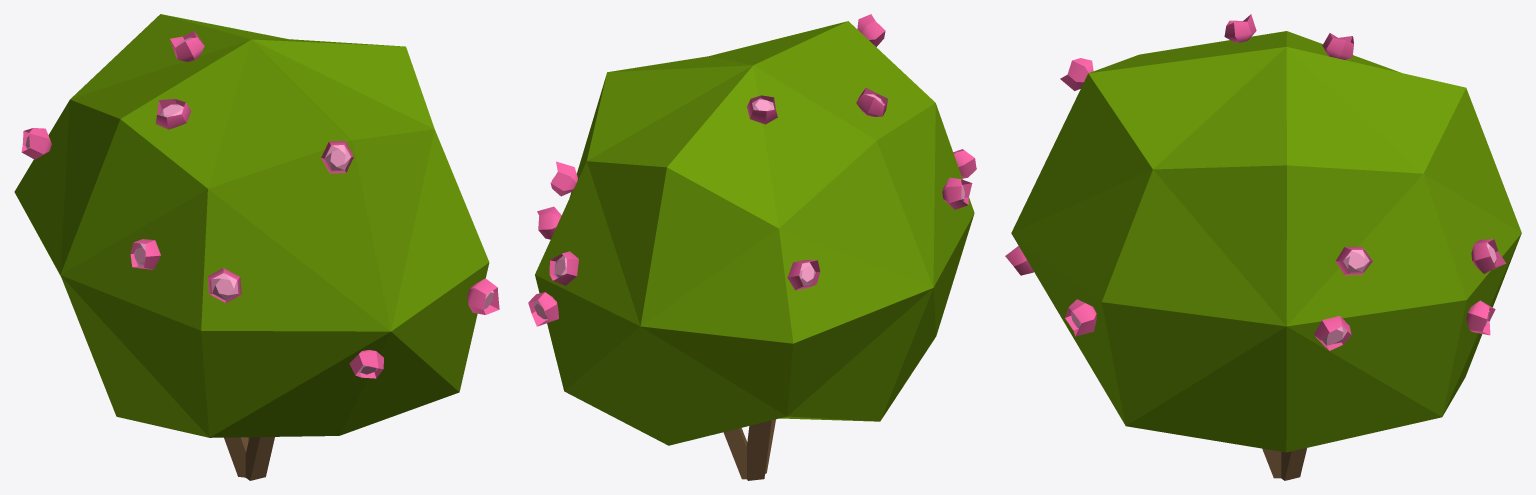
File: Mesh_RoseBush.gltf
3 views of the same model, side by side, from view 1: azimuth 30°, elevation 25°; view 2: azimuth 150°, elevation 25°; view 3: azimuth 270°, elevation 25° (orthographic). The views are drawn at different scales.
Visible parts, largest first — view 1: node-0; view 2: node-0; view 3: node-0.
Boxes of the visible parts, x1,y1,x2,y2 form: node-0: (14, 14, 499, 480); node-0: (528, 14, 976, 480); node-0: (1005, 14, 1521, 480).
Size of the model in its own units: 31.61 by 32.97 by 36.09.
1 material, 1 textured.
